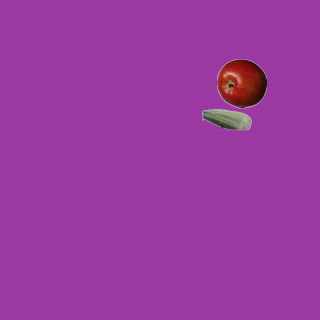Apple Braeburn: (216, 58, 266, 108)
Corn Husk: (201, 94, 251, 144)
